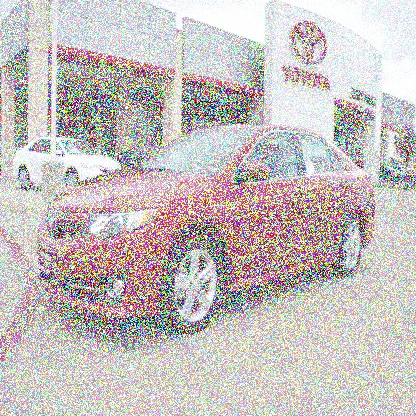Vehicle: (36, 122, 376, 336)
